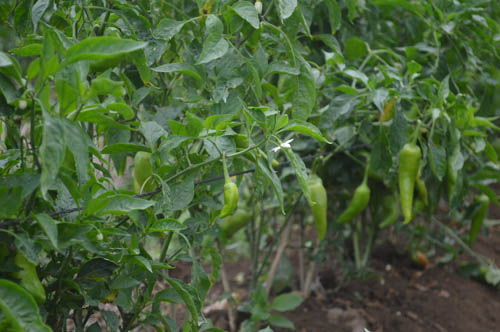ChiliPepper: (397, 147, 420, 229), (335, 189, 372, 228), (308, 183, 328, 240), (222, 185, 241, 218)
